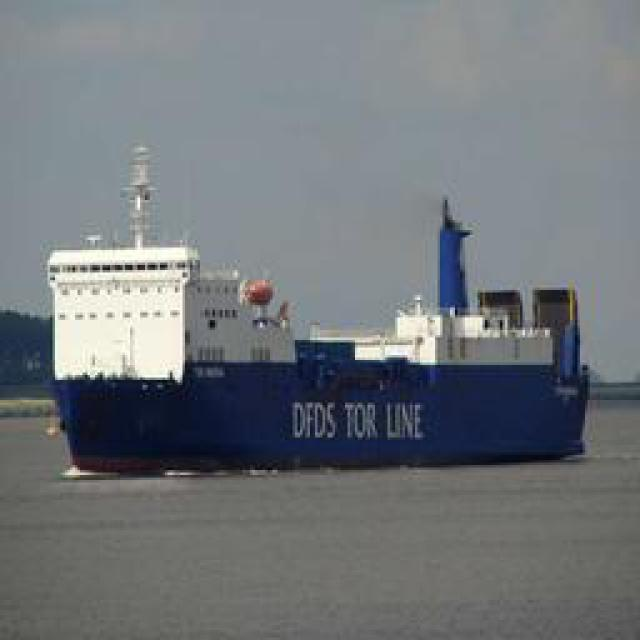Ship: (39, 214, 594, 474)
